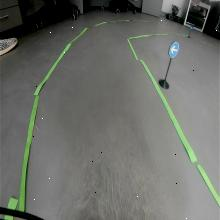left: (168, 41, 180, 58)
